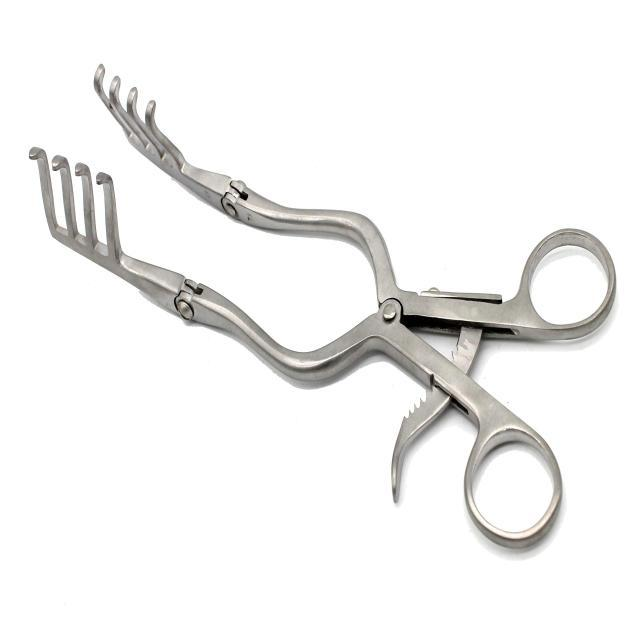Self Retractor: (25, 61, 618, 556)
